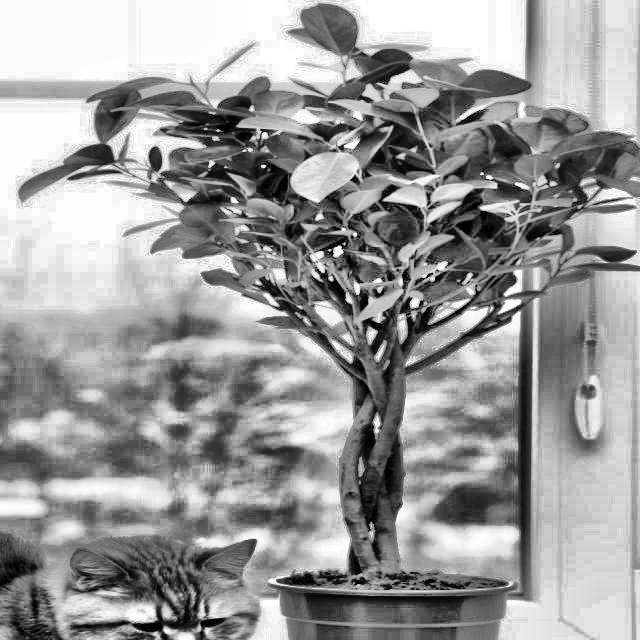plants: (117, 37, 607, 515)
